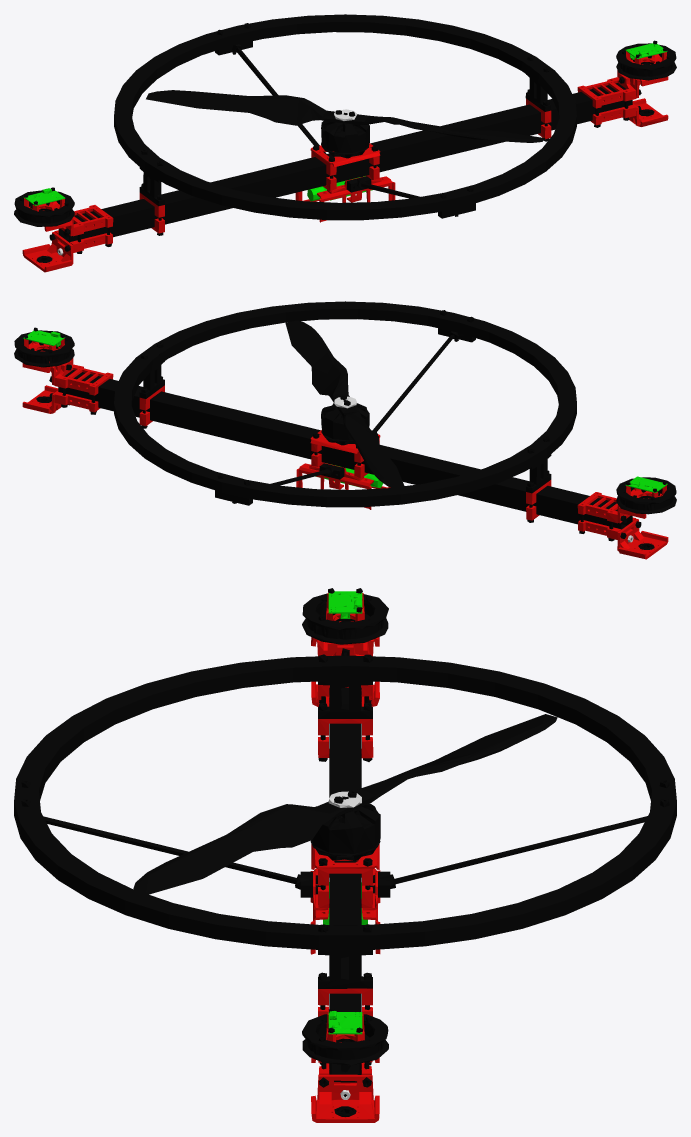
3 views of the same model, one above another, from view 1: azimuth 30°, elevation 25°; view 2: azimuth 150°, elevation 25°; view 3: azimuth 270°, elevation 25° (orthographic). The views are drawn at different scales.
Visible parts, largest first — view 1: link2_black_part, link2_red_part, link2_green_part; view 2: link2_black_part, link2_red_part, link2_green_part; view 3: link2_black_part, link2_red_part, link2_green_part.
Boxes of the visible parts, x1,y1,x2,y2 form: link2_black_part: (14,14,676,262); link2_red_part: (22,51,668,272); link2_green_part: (23,43,667,205); link2_black_part: (14,301,676,549); link2_red_part: (22,338,668,559); link2_green_part: (23,330,667,492); link2_black_part: (14,588,676,1116); link2_red_part: (310,593,380,1122); link2_green_part: (323,591,367,1034).
Size of the model in its own units: 0.6528 by 0.3997 by 0.0924.
